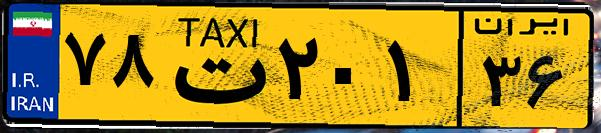0: (330, 28, 385, 110)
1: (385, 28, 445, 110)
2: (270, 28, 330, 110)
3: (475, 38, 525, 113)
6: (525, 38, 570, 115)
7: (57, 26, 110, 100)
8: (110, 28, 158, 98)
ت: (158, 12, 270, 120)
